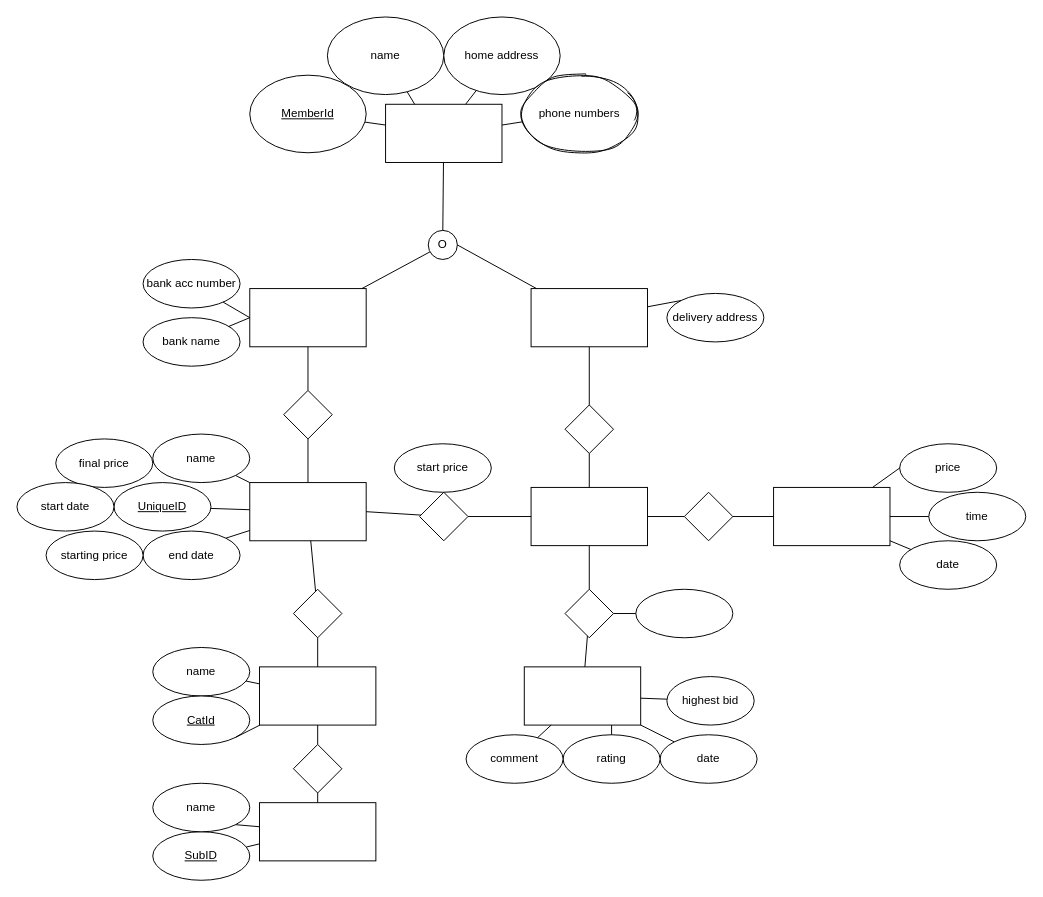
The diagram is 1043 pixels wide and 897 high, and some of its shapes have lost their labels. Here are the shapes that lost their labels. From the top down, the centre of each, then its label:
At (443,132): "Member".
At (307,317): "Sellers".
At (588,317): "Buyers".
At (307,511): "Items for sale".
At (588,516): "Auction".
At (831,516): "Bid".
At (684,613): "status".
At (317,695): "Category".
At (582,695): "transaction".
At (317,831): "Subcategory".
